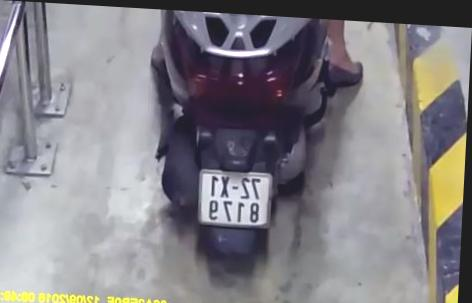License_Plate: (190, 169, 276, 231)
